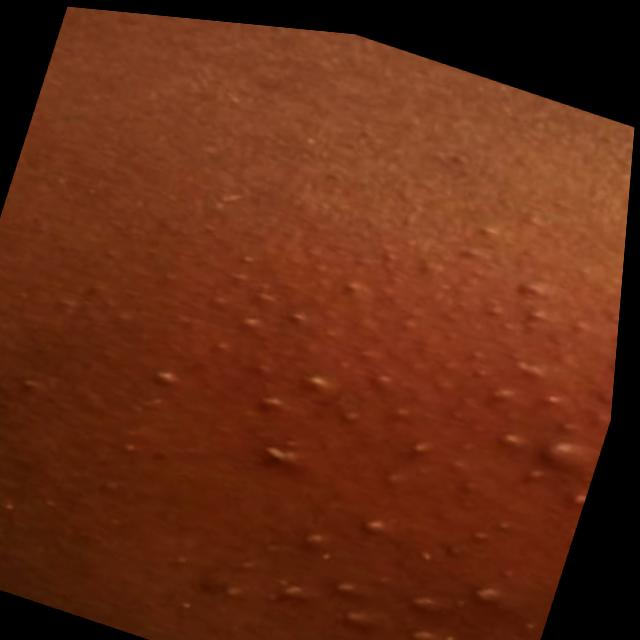whitehead: (46, 170, 625, 640)
